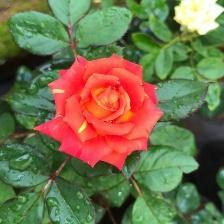rose: (36, 53, 166, 173)
